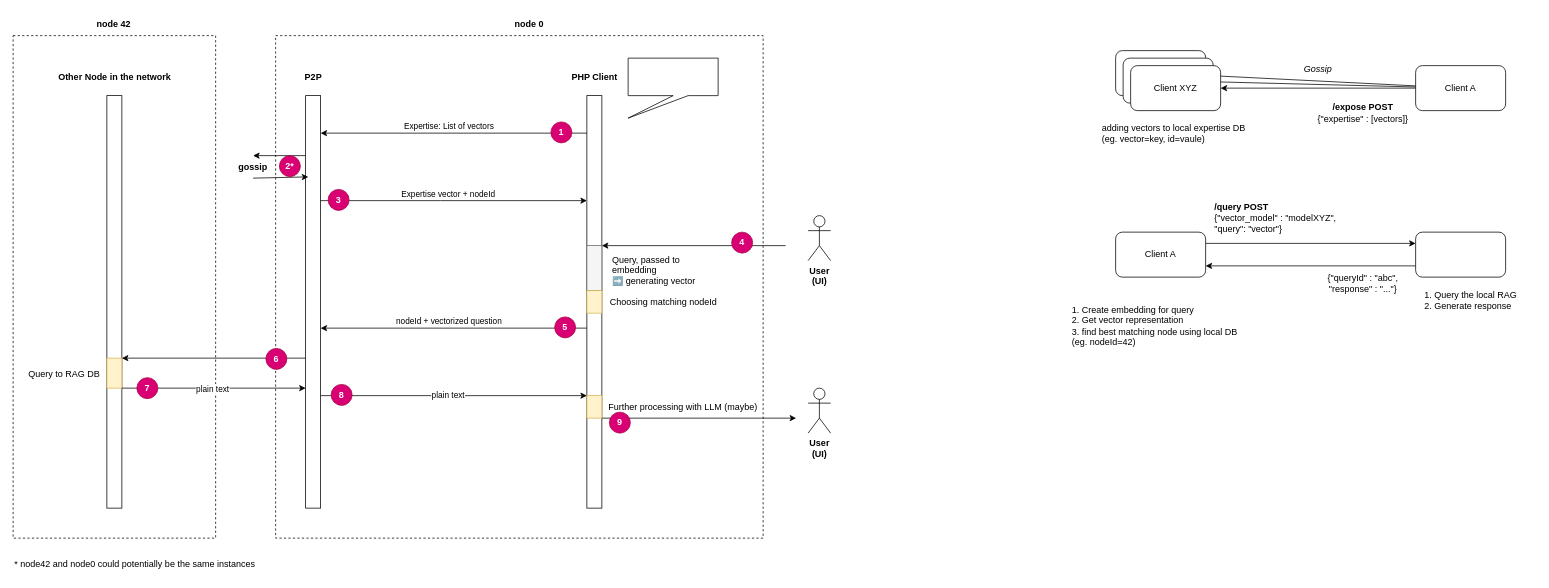
This 1549x588 diagram has some shape labels left out. The box of each missing label's shape, as (x1, y1, x2, y2) in pixels:
Client B (nodeId=42): (1415, 231, 1506, 277)
Expertise Strings: (627, 57, 718, 118)
